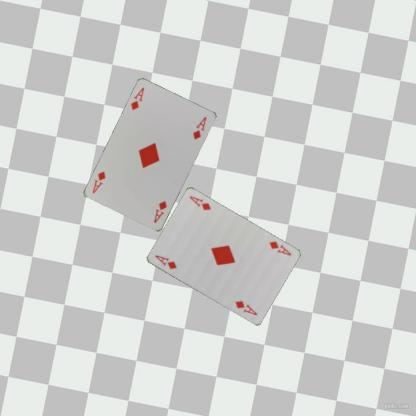Ad: (152, 252, 178, 271), (266, 239, 292, 257), (128, 85, 146, 111), (152, 198, 168, 224)
